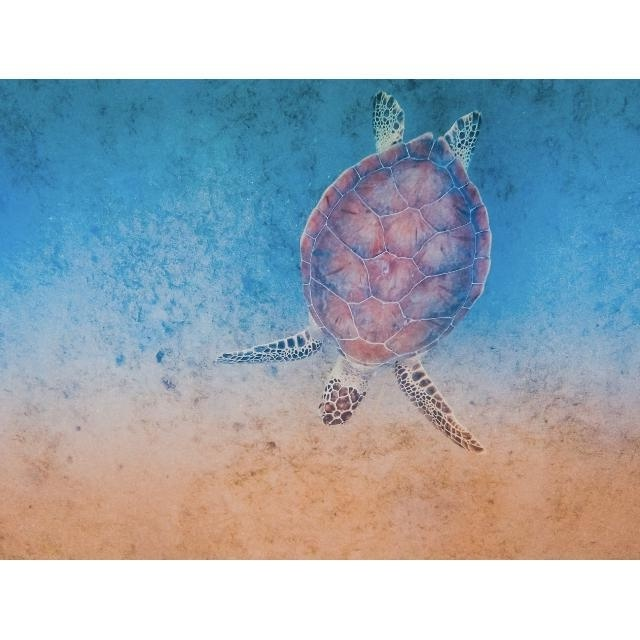turtle: (220, 90, 493, 456)
